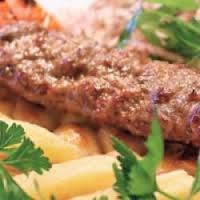kebap: (0, 22, 199, 169)
